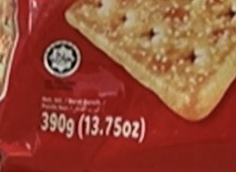halal: (51, 48, 72, 68)
